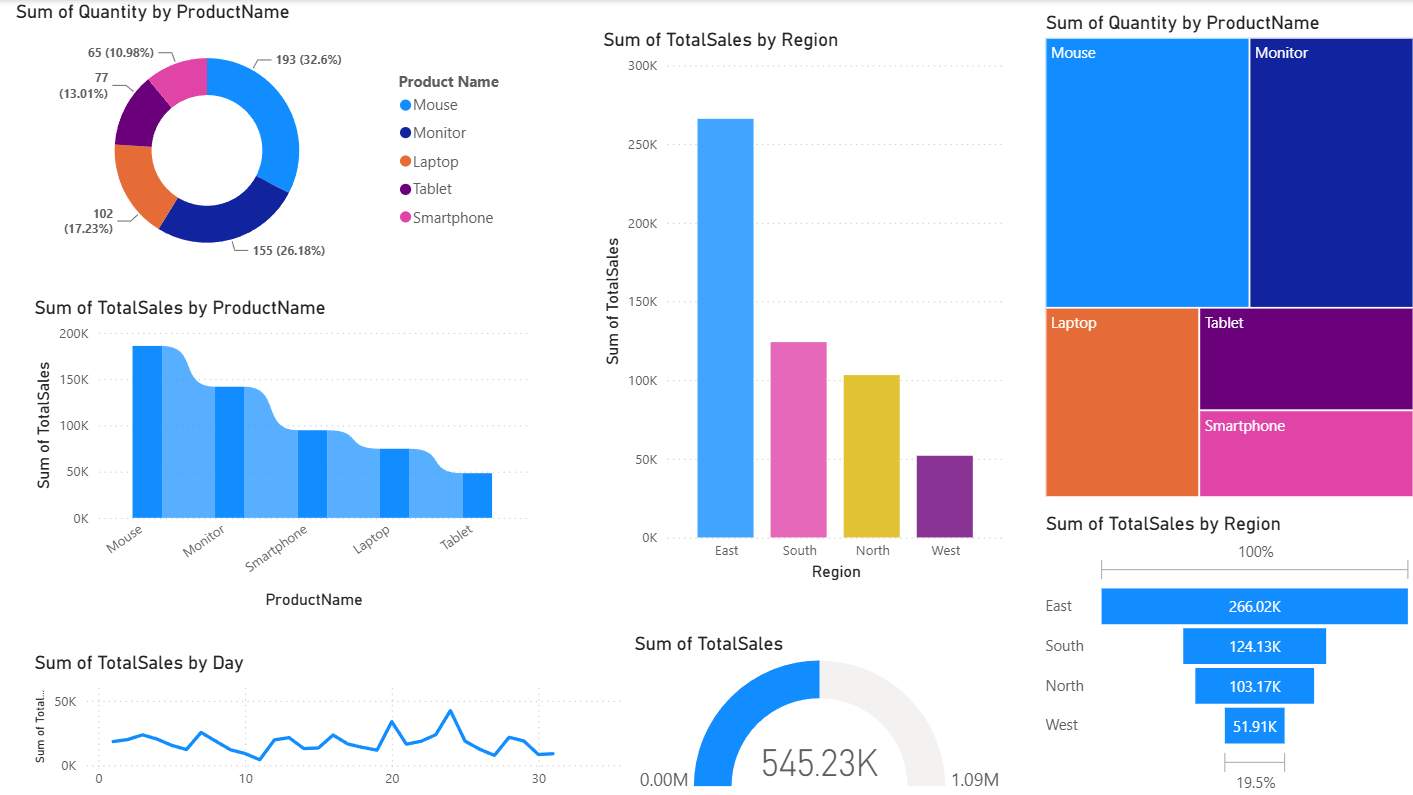

This screenshot's page, from the dashboard's own definition file:
{"tool":"powerbi","page":{"name":"Page 1","canvas":[1280,720],"ordinal":0},"visuals":[{"type":"donutChart","fields":{"Category":["Dim_Products.ProductName"],"Y":["Sum(Fact_Sales.Quantity)"]},"box":[10.1,0,462.1,252.5],"z":0},{"type":"ribbonChart","fields":{"Y":["Sum(Fact_Sales.TotalSales)"],"Category":["Dim_Products.ProductName"]},"box":[27.4,267.6,455.6,286.8],"z":1000},{"type":"columnChart","fields":{"Category":["Dim_Customers.Region"],"Y":["Sum(Fact_Sales.TotalSales)"]},"box":[539.9,25.9,371.9,502.7],"z":2000},{"type":"funnel","fields":{"Category":["Dim_Customers.Region"],"Y":["Sum(Fact_Sales.TotalSales)"]},"box":[938.6,462.4,341.7,258],"z":3000},{"type":"lineChart","fields":{"Category":["Dim_Date.Day"],"Y":["Sum(Fact_Sales.TotalSales)"]},"box":[27.4,587.3,540.7,133.1],"z":4000},{"type":"gauge","fields":{"Y":["Sum(Fact_Sales.TotalSales)"]},"box":[568,570,344,150],"z":5000},{"type":"treemap","fields":{"Values":["Sum(Fact_Sales.Quantity)"],"Group":["Dim_Products.ProductName"]},"box":[938.6,9.6,341.7,443.2],"z":6000}]}

Visuals, with their boxes in screenshot pixels (x1, y1, x2, y2), scaled from the page's 1280x720 canvas onto the 1413x795 screenshot:
donutChart - Dim_Products.ProductName x Sum(Fact_Sales.Quantity): bbox(11, 0, 521, 279)
ribbonChart - Sum(Fact_Sales.TotalSales) x Dim_Products.ProductName: bbox(30, 295, 533, 612)
columnChart - Dim_Customers.Region x Sum(Fact_Sales.TotalSales): bbox(596, 29, 1007, 584)
funnel - Dim_Customers.Region x Sum(Fact_Sales.TotalSales): bbox(1036, 511, 1412, 794)
lineChart - Dim_Date.Day x Sum(Fact_Sales.TotalSales): bbox(30, 648, 627, 794)
gauge - Sum(Fact_Sales.TotalSales): bbox(627, 629, 1007, 794)
treemap - Sum(Fact_Sales.Quantity) x Dim_Products.ProductName: bbox(1036, 11, 1412, 500)
